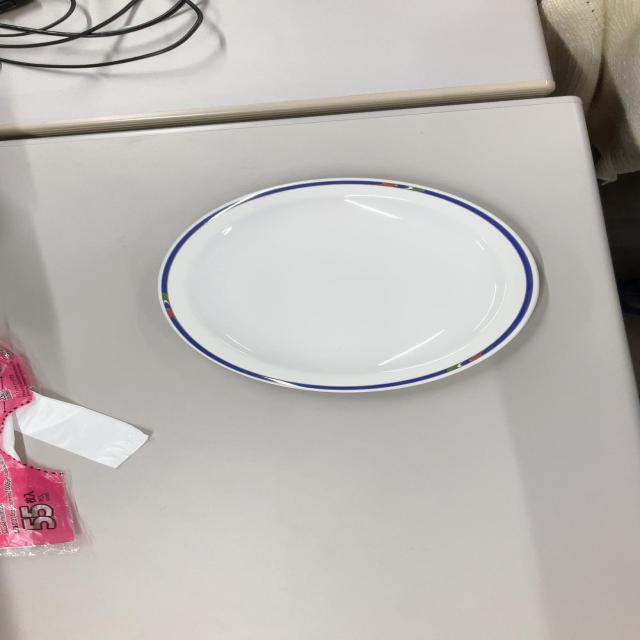Plate: (144, 169, 552, 403)
